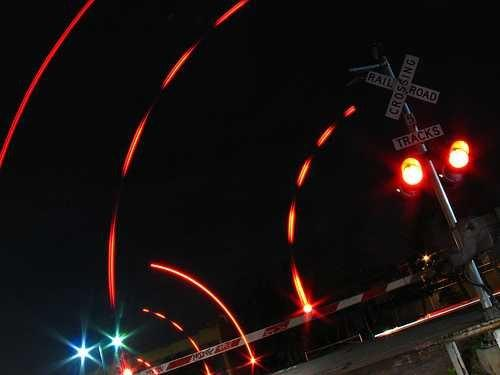red: (443, 138, 478, 179), (393, 155, 428, 194)
